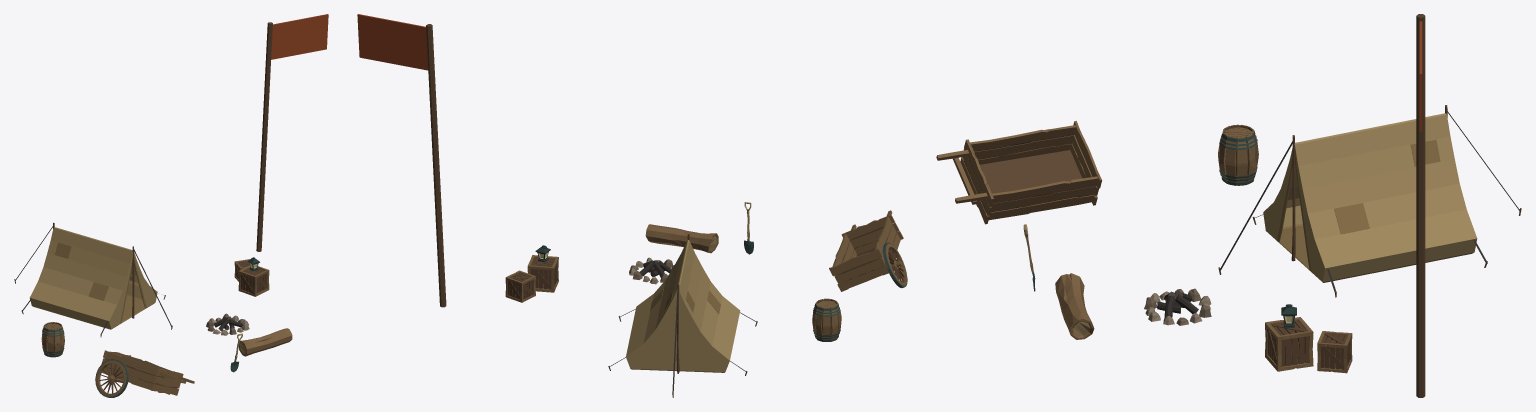
Rendered from LmCamp.glb.
The picture shows the model from 3 angles, left to right: view 1: azimuth 30°, elevation 25°; view 2: azimuth 150°, elevation 25°; view 3: azimuth 270°, elevation 25°; orthographic projection. The views are drawn at different scales.
Visible parts, largest first — view 1: LmCamp; view 2: LmCamp; view 3: LmCamp.
Boxes of the visible parts, <box> form: LmCamp: <box>14,14,328,397</box>; LmCamp: <box>357,14,907,397</box>; LmCamp: <box>936,14,1521,397</box>.
Size of the model in its own units: 13.34 by 8.73 by 11.55.
